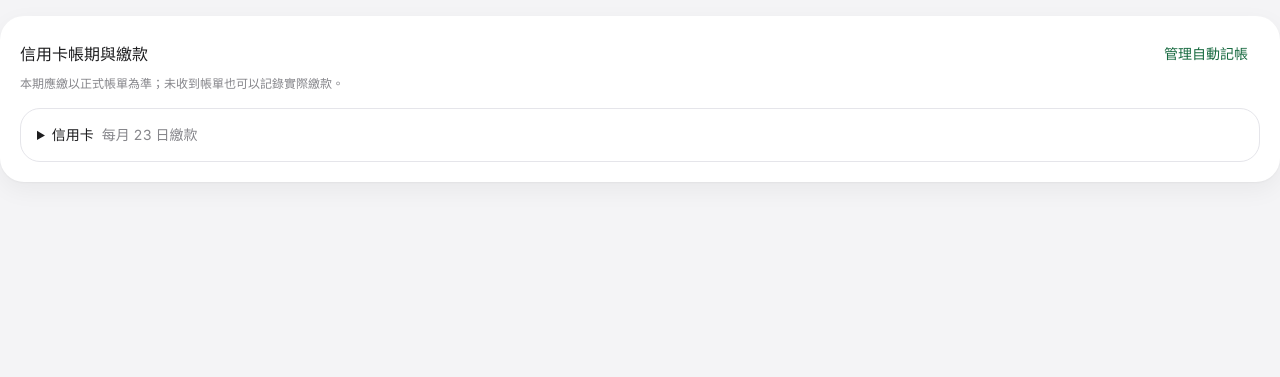
Scenario: shows a settled statement instead of asking to wait for another bill
Click the text "信用卡" at (73,134), box [52,126,94,143]
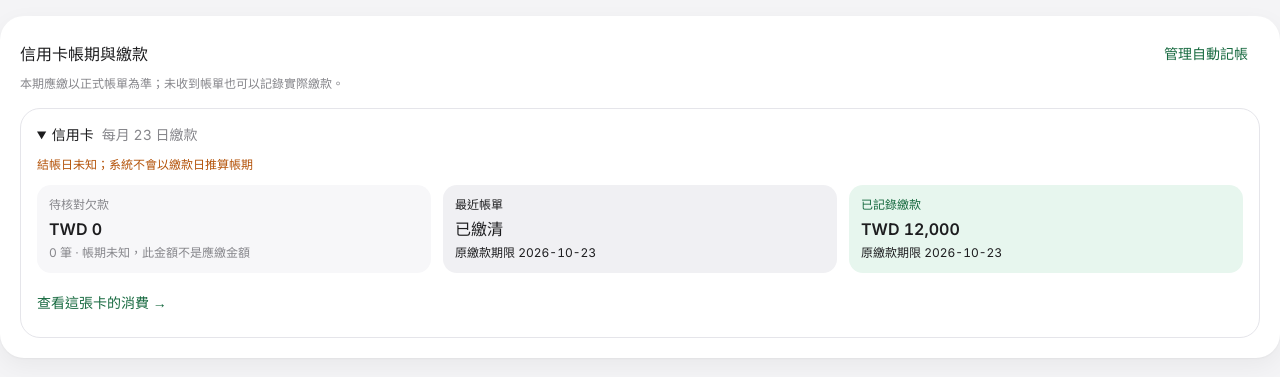
Expected: the text "最近帳單" is shown, [455,197,503,212]
Expected: the text "已繳清" is shown, [455,219,503,239]
